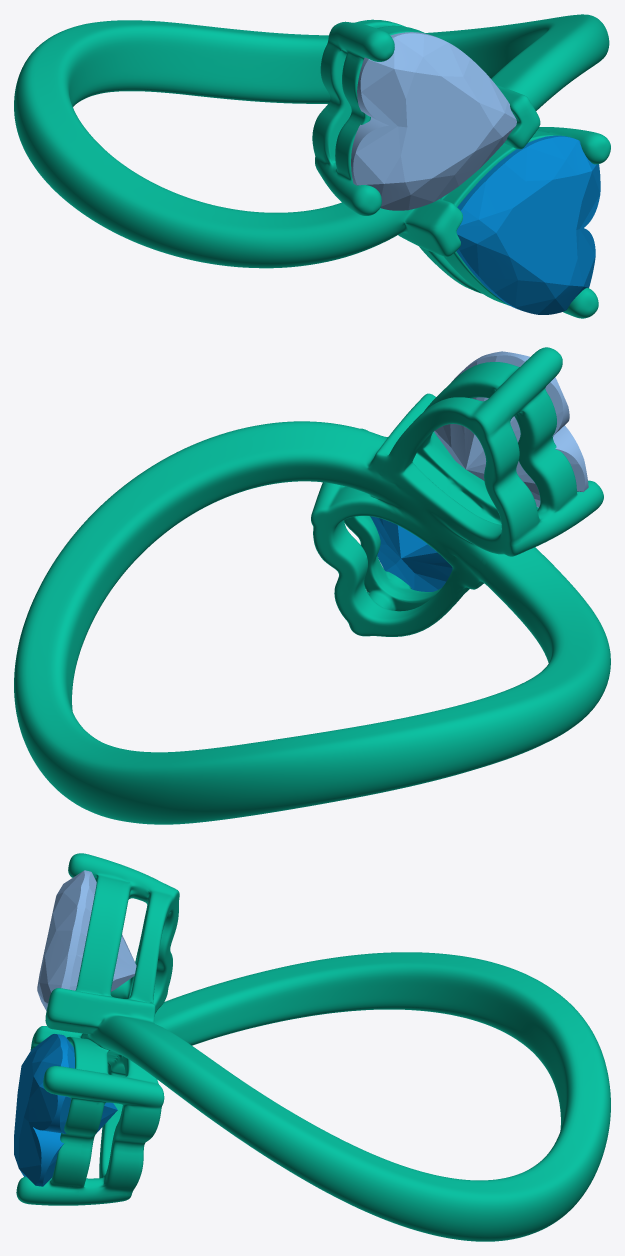
3 renders of one model, top to bottom at view 1: azimuth 30°, elevation 25°; view 2: azimuth 150°, elevation 25°; view 3: azimuth 270°, elevation 25°, orthographic. The views are drawn at different scales.
Parts seen in each view (by area): view 1: FOR RENDER.3dm, Diamond_Heart (×2); view 2: FOR RENDER.3dm, Diamond_Heart (×2); view 3: FOR RENDER.3dm, Diamond_Heart (×2).
Part boxes in pixels (left/top/right/bottom): FOR RENDER.3dm: left=14, top=14, right=610, bottom=318; Diamond_Heart (×2): left=351, top=32, right=600, bottom=314; FOR RENDER.3dm: left=14, top=347, right=610, bottom=824; Diamond_Heart (×2): left=370, top=351, right=588, bottom=591; FOR RENDER.3dm: left=16, top=853, right=610, bottom=1241; Diamond_Heart (×2): left=14, top=870, right=136, bottom=1186.
Size of the model in its own units: 2.49 by 1.43 by 2.79.
